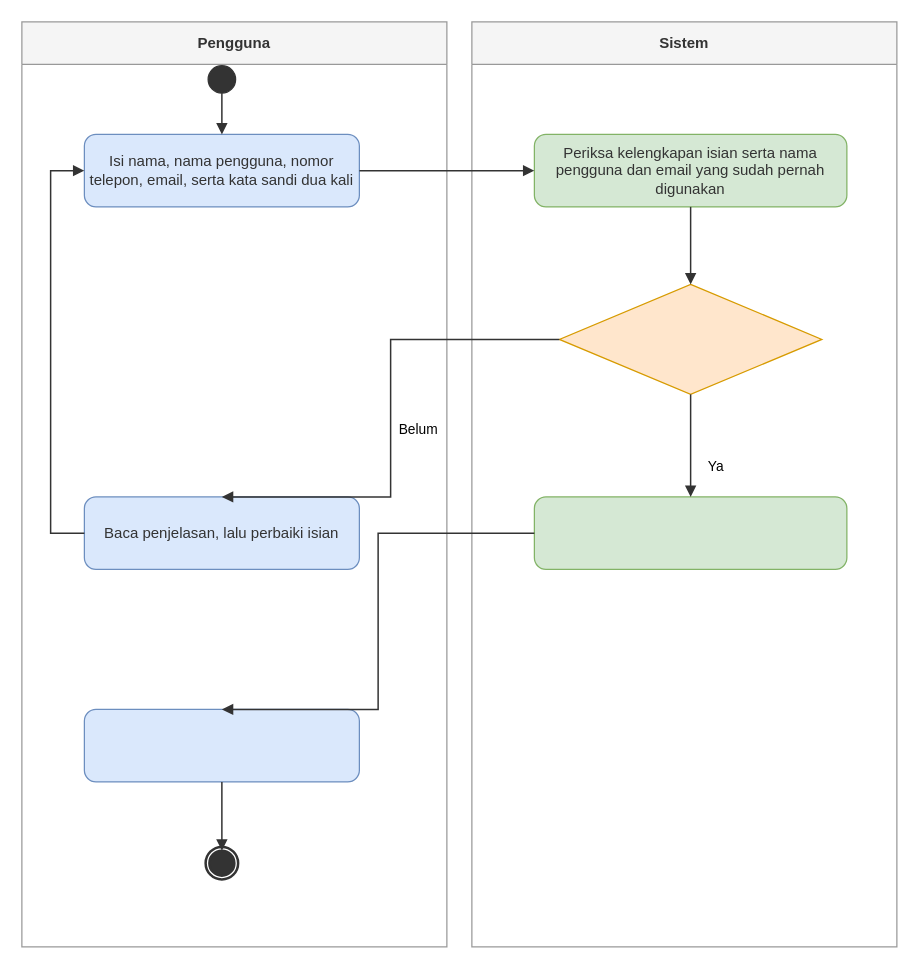
The diagram is 919 pixels wide and 969 high, and some of its shapes have lost their labels. Here are the shapes that lost their labels. From the top down, the box of each, then its label:
(558, 283, 822, 394): Semua isian dapat diterima?
(533, 496, 847, 569): Simpan akun dan buka konsultasi pertama
(83, 708, 359, 782): Mulai mengisi data motor
